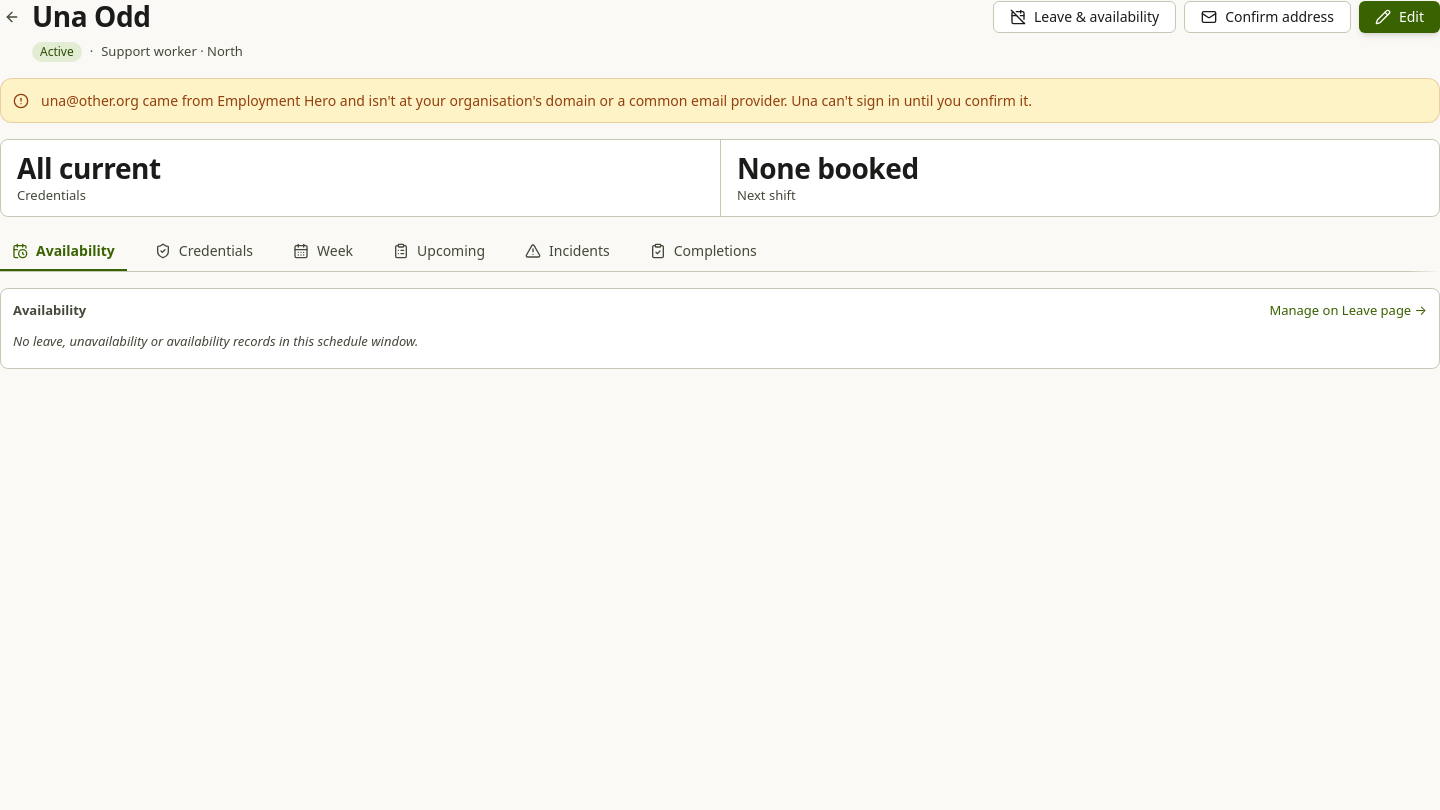
Scenario: StaffDetailPage: a held sign-in address › says so when the confirm fails and keeps the warning
Click the button "Confirm address" at coordinates (1268, 17), box [1184,1,1351,33]
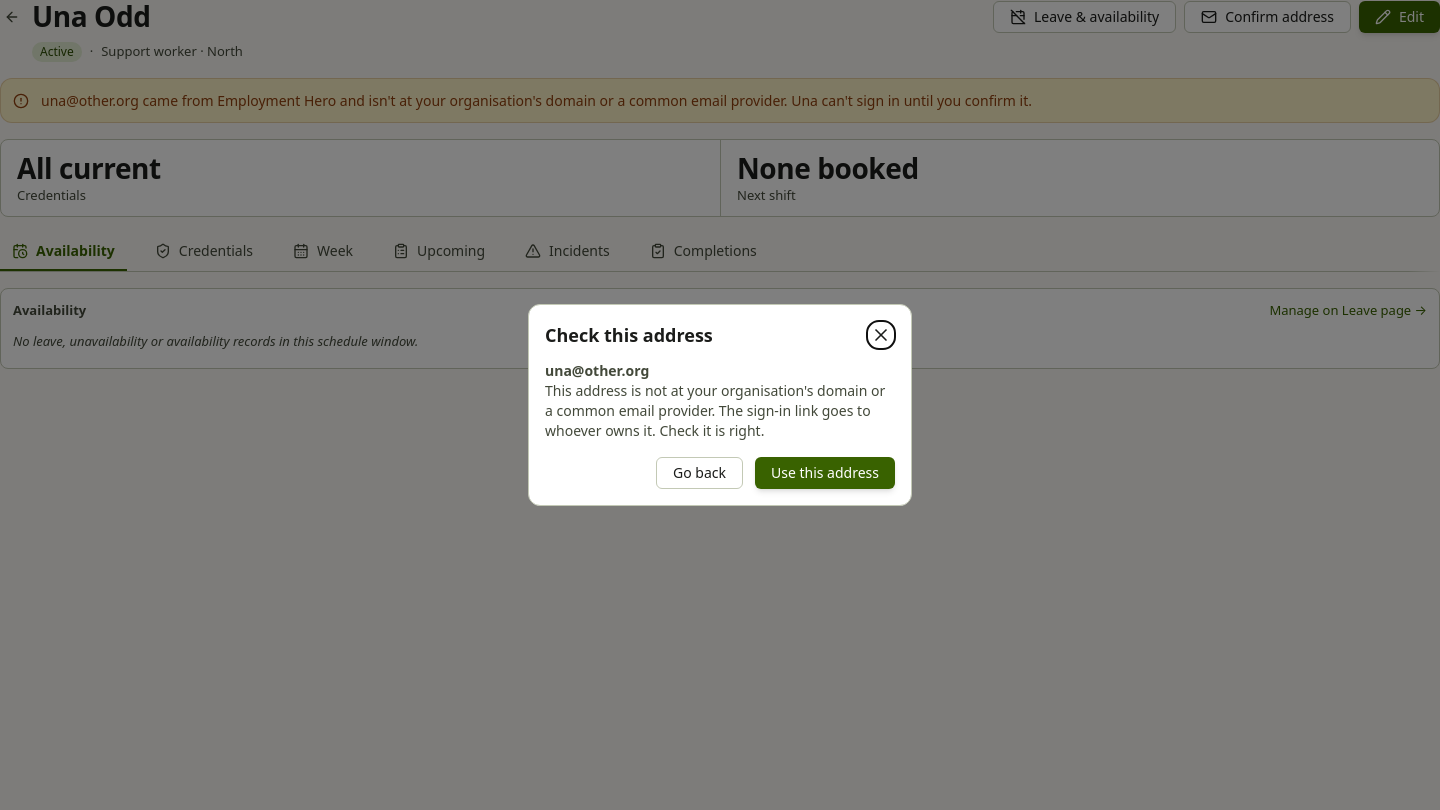
Click the button "Use this address" at coordinates (825, 473), box [755,457,895,489]
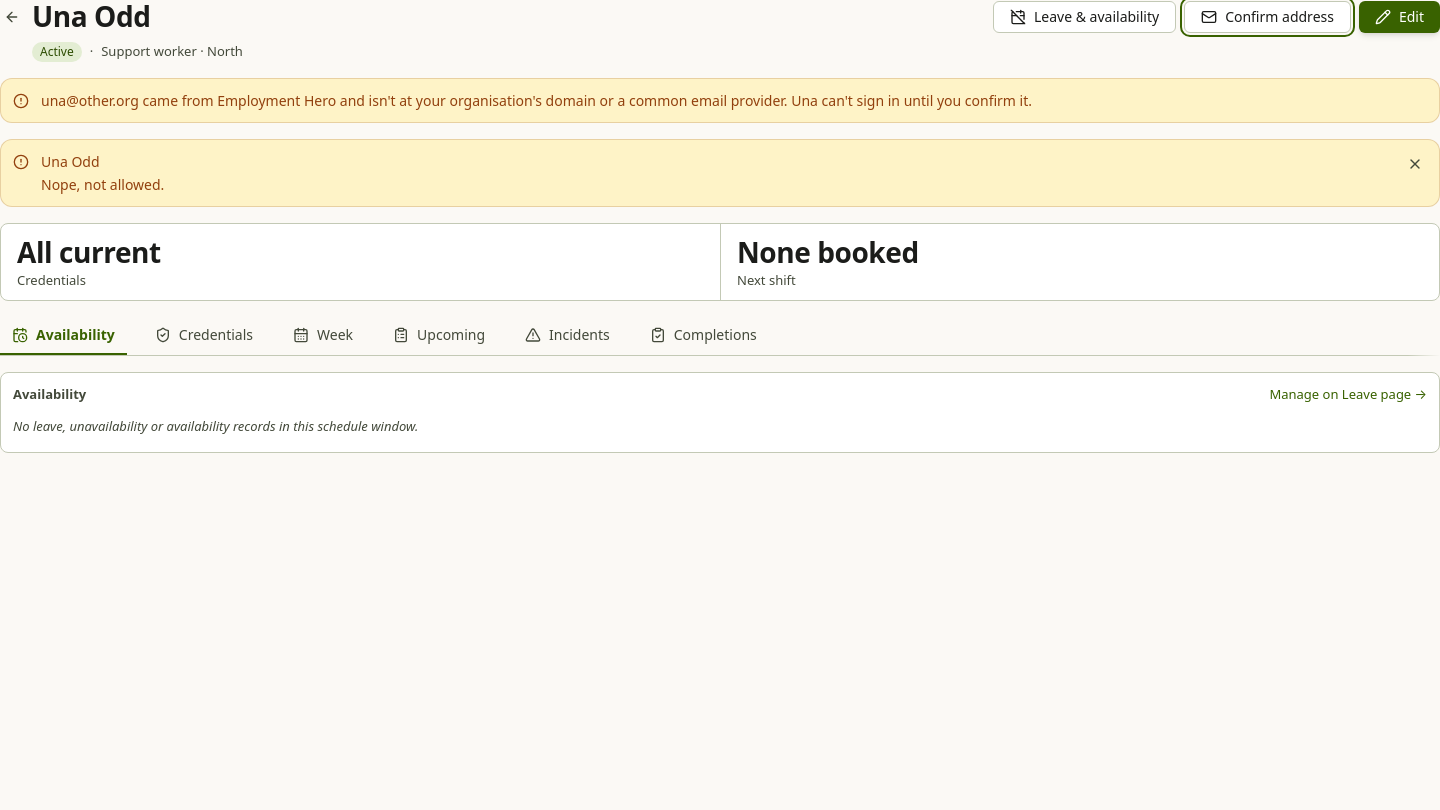
Expected: the text "una@other.org came from Employment Hero" is shown, [41,91,1032,110]
Expected: the message "Una Odd Nope, not allowed." is shown, [0,139,1439,207]
